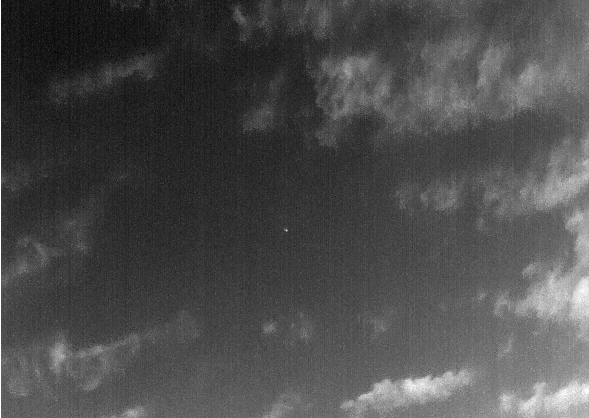dim target: (284, 228, 289, 233)
